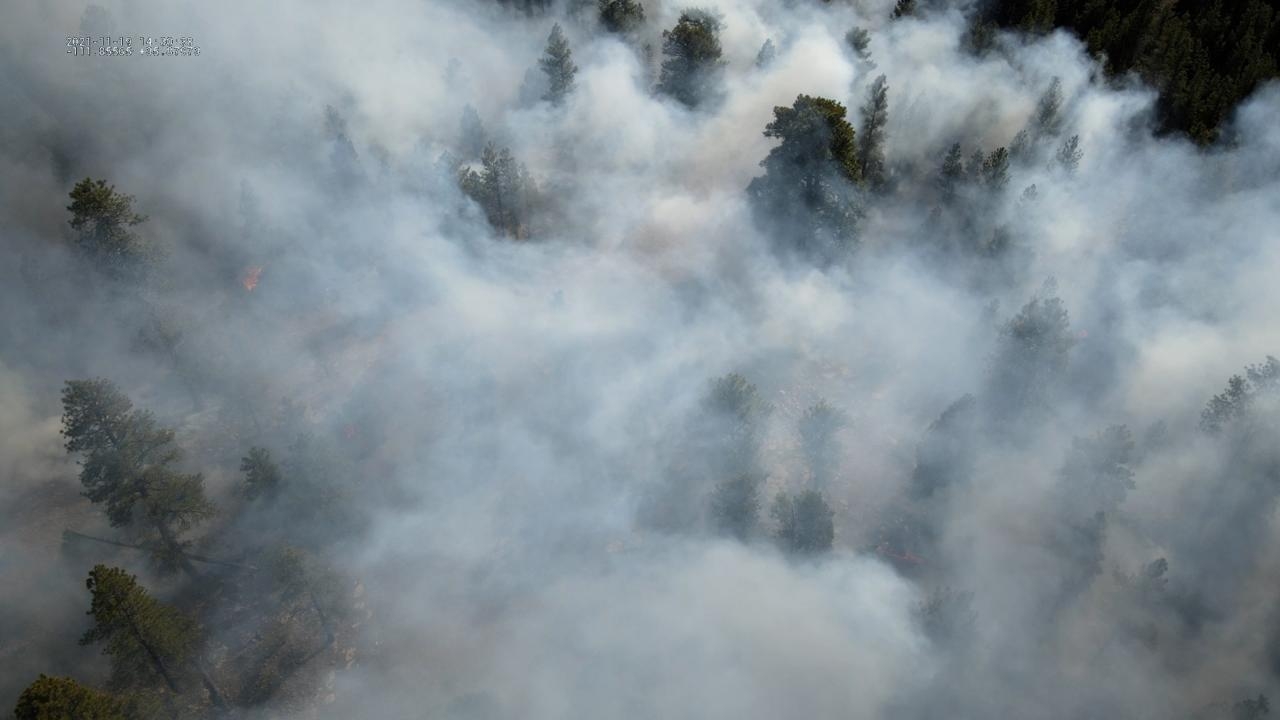fire: (239, 260, 262, 292)
smoke: (0, 0, 1280, 720)
